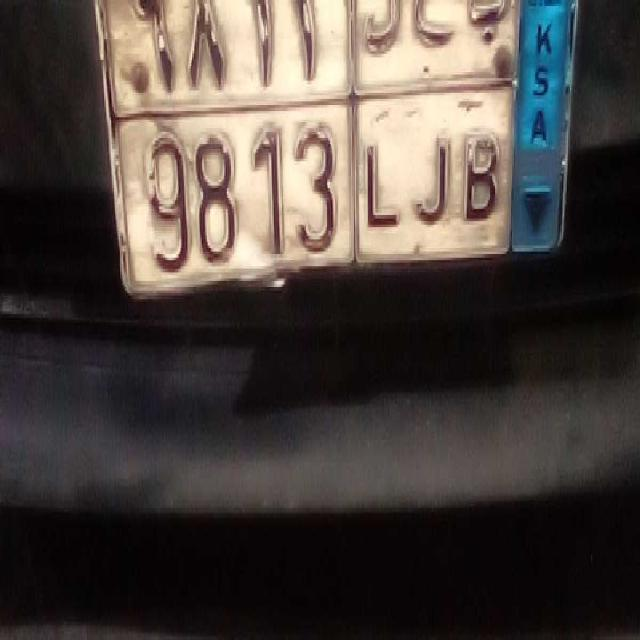license_plate: (121, 96, 508, 287)
